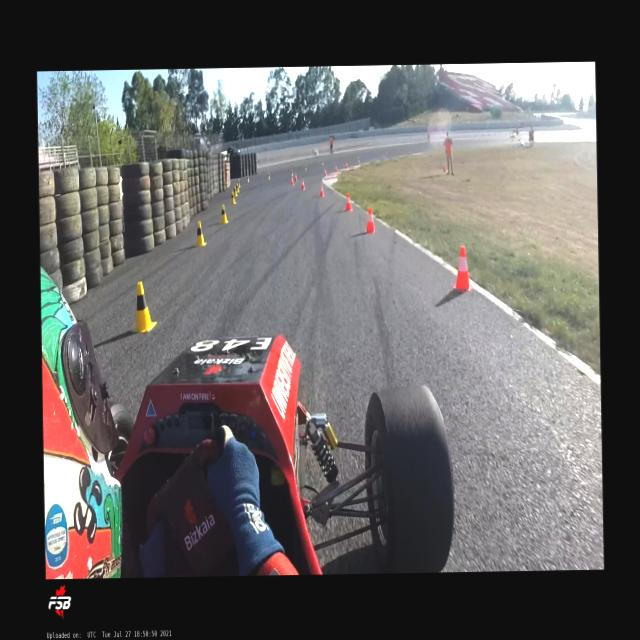orange_cone: (452, 245, 472, 290), (366, 208, 376, 232), (344, 192, 352, 211), (318, 183, 324, 196), (300, 179, 304, 190), (290, 177, 294, 186), (294, 173, 297, 181), (324, 168, 326, 176), (334, 165, 336, 170)
yellow_cone: (131, 281, 156, 332), (195, 220, 207, 246), (220, 203, 228, 223), (230, 191, 236, 204), (233, 184, 237, 197), (235, 182, 239, 193), (246, 173, 250, 182), (267, 172, 270, 180), (290, 168, 293, 175)
